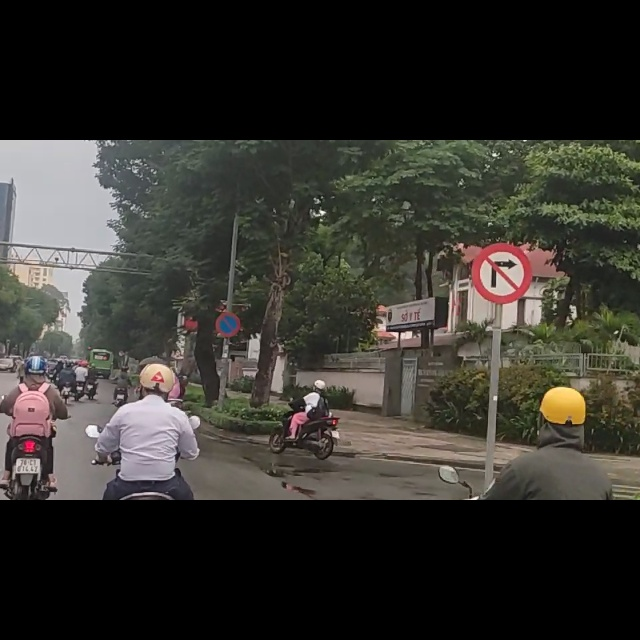bien_cam: (473, 183, 532, 292), (215, 305, 241, 351)
